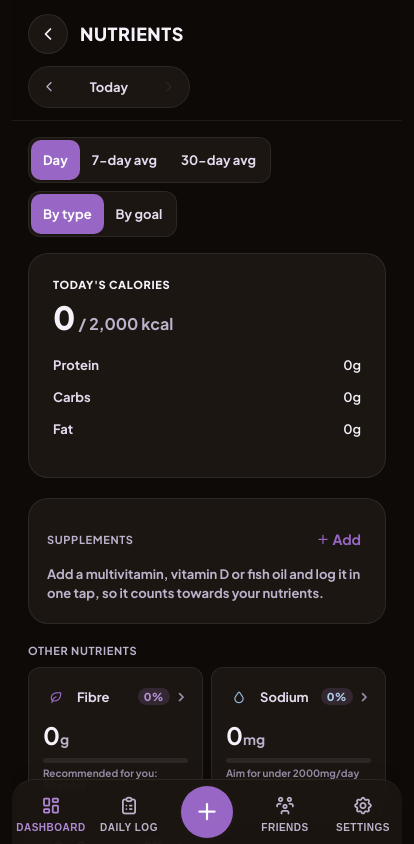
Test: Nutrients — averages, goals and personal targets › averages over the days that have something logged, not all seven
This screenshot has width=414, height=844.
Click the button "7-day avg": (124,160) [80,140,169,180]
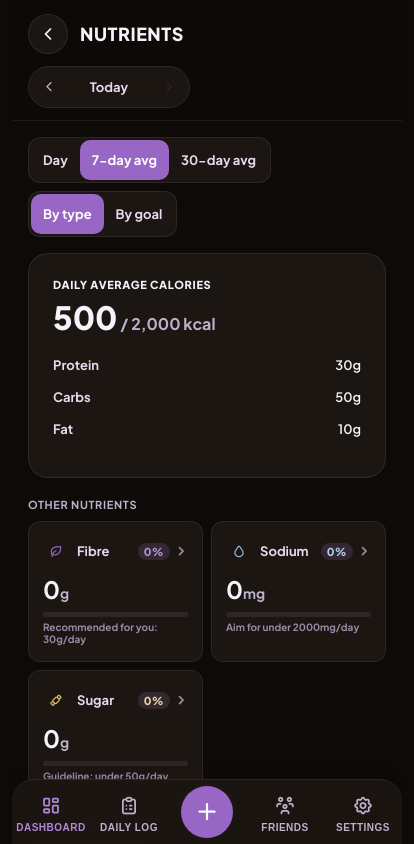
expect the text "Daily average calories" is shown: met, box [53,278,211,291]
